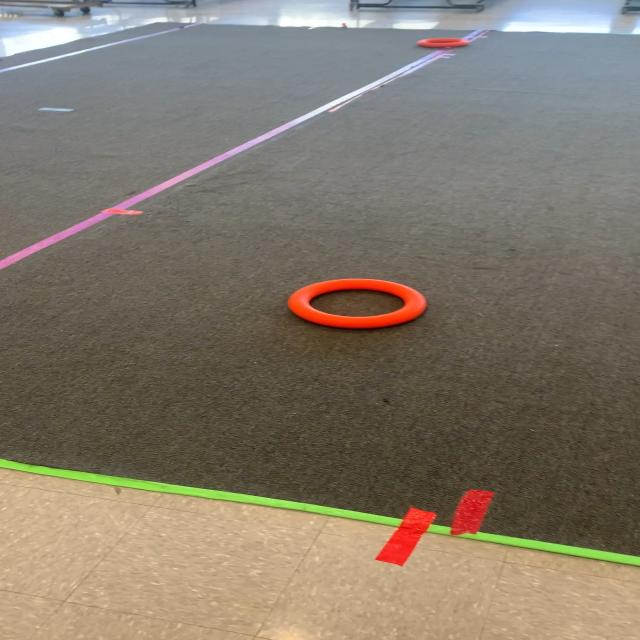notes: (289, 276, 429, 329), (414, 36, 474, 48)
